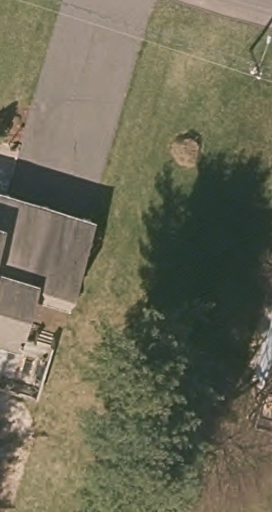DT: (248, 60, 266, 83)
